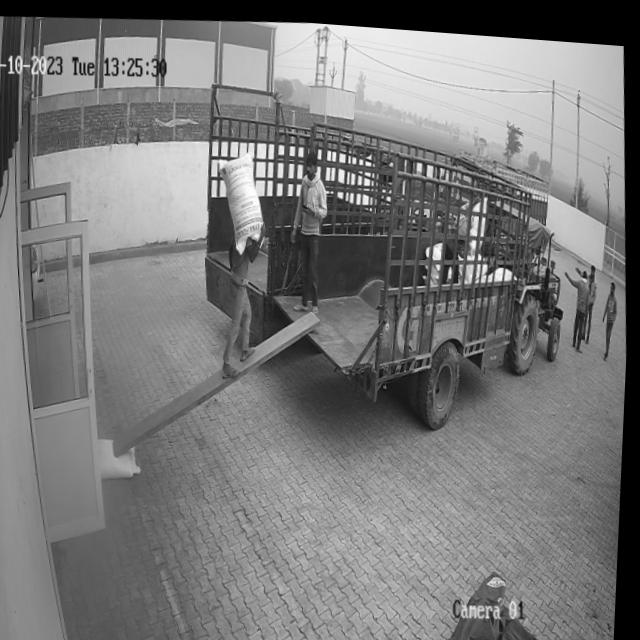sack: (217, 148, 268, 252), (101, 434, 147, 481)
